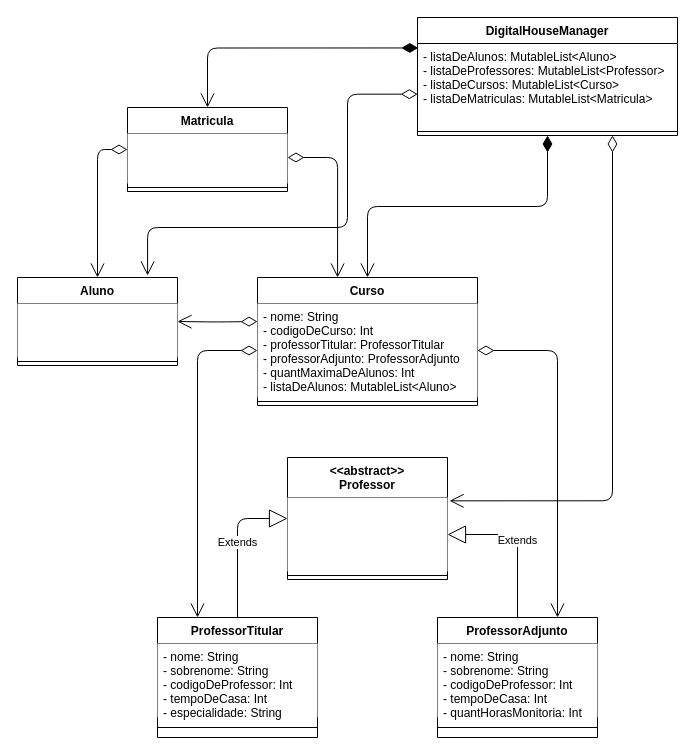
The diagram is 695 pixels wide and 755 high, and some of its shapes have lost their labels. The shapes that lost their labels are listed below. From the top down, each one's centre as x and y in pixels, then its label:
At point 207,158: "- aluno: Aluno - curso: Curso - matricula: Date".
At point 97,330: "- nome: String - sobrenome: String - codigoDeAluno: Int".
At point 367,534: "- nome: String - sobrenome: String - codigoDeProfessor: Int - tempoDeCasa: Int".
